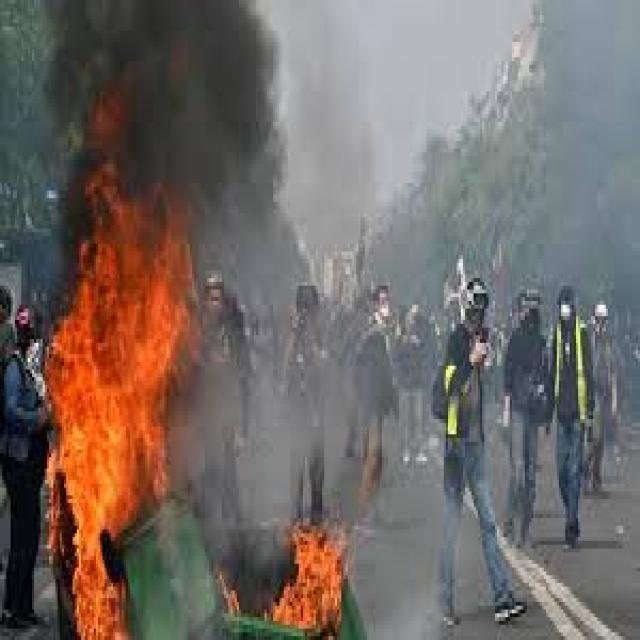Fire: (46, 180, 184, 504), (49, 506, 128, 638), (274, 530, 342, 632), (94, 100, 120, 139)
Smoke: (186, 181, 344, 526), (49, 1, 284, 100), (123, 101, 293, 179)
